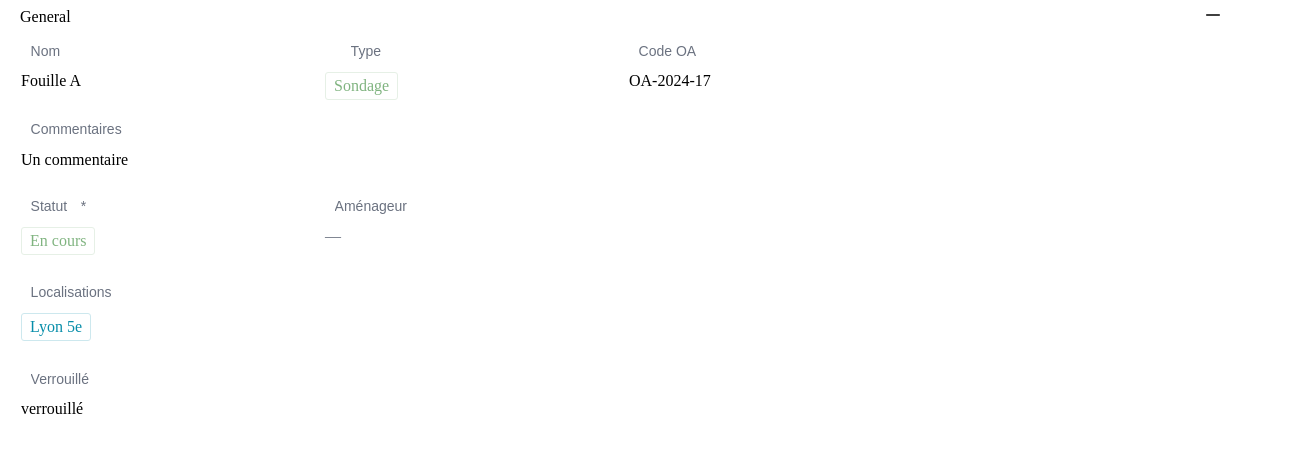
Scenario: ProjectFicheTab — layout › opens a textarea for a field flagged isTextArea, and a plain input otherwise
The width and height of the screenshot is (1292, 454).
Click the button with class "field-value-cell-editable" showing "Un commentaire" at (75, 159), box [21,151,128,168]
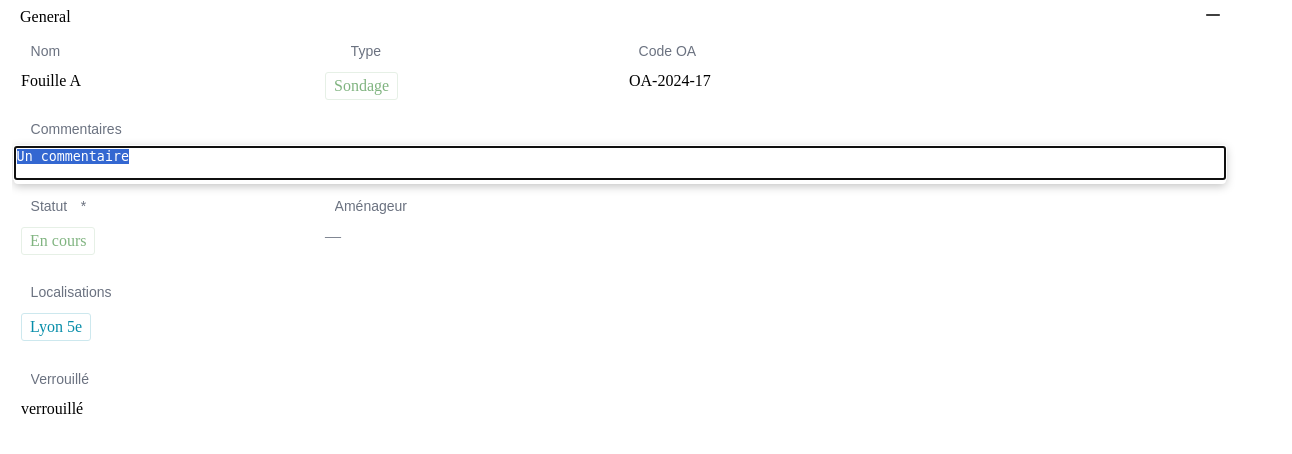
expect the text box is shown: met, box [14,146,1226,180]
Press the mouse on the element that starts with "General" at (652, 223), box [20,8,1284,438]
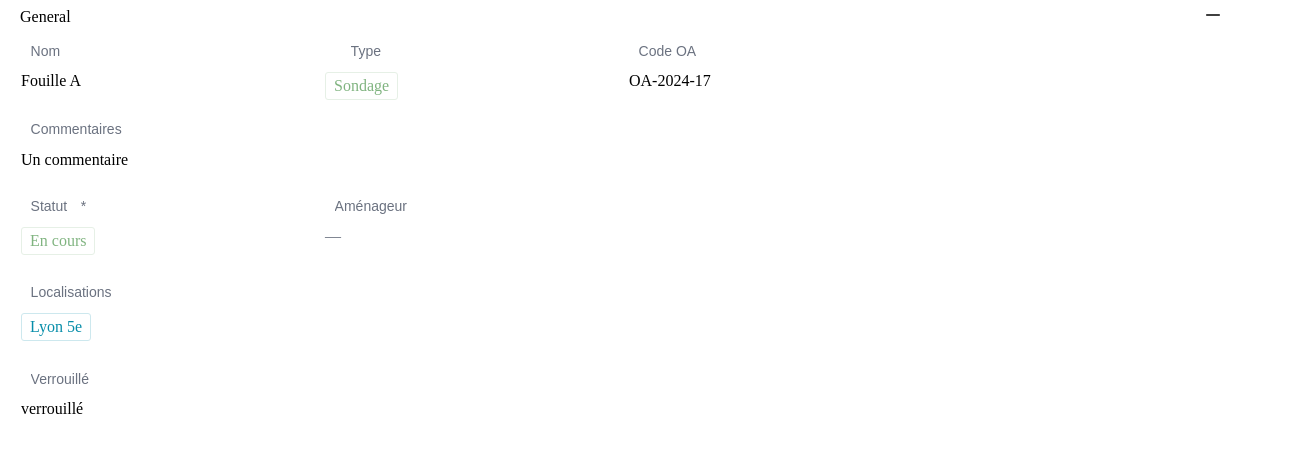
Click the button with class "field-value-cell-editable" showing "OA-2024-17" at (670, 81), box [629,72,711,89]
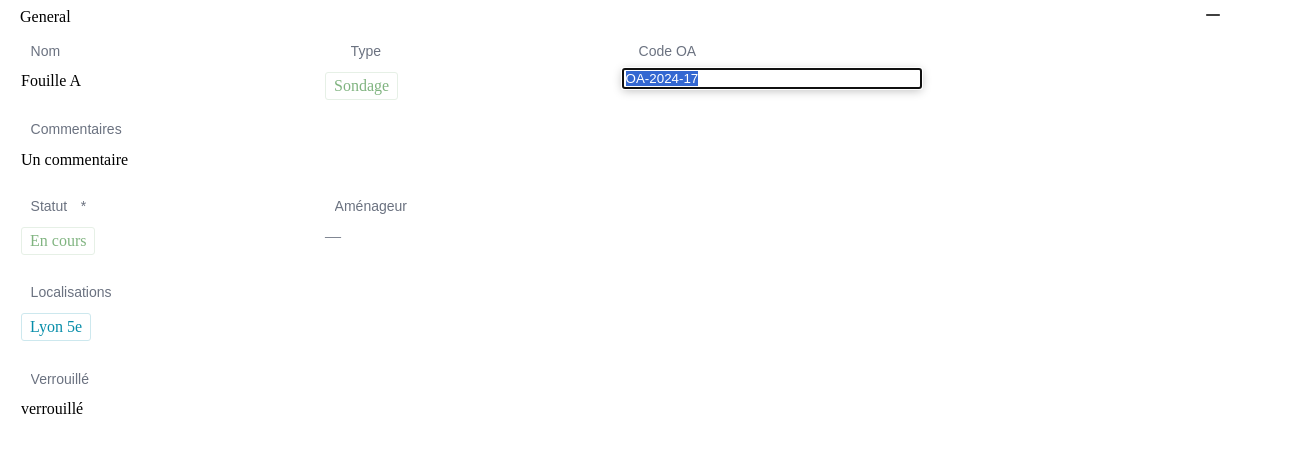
expect the field is shown: met, box [622,68,922,89]
